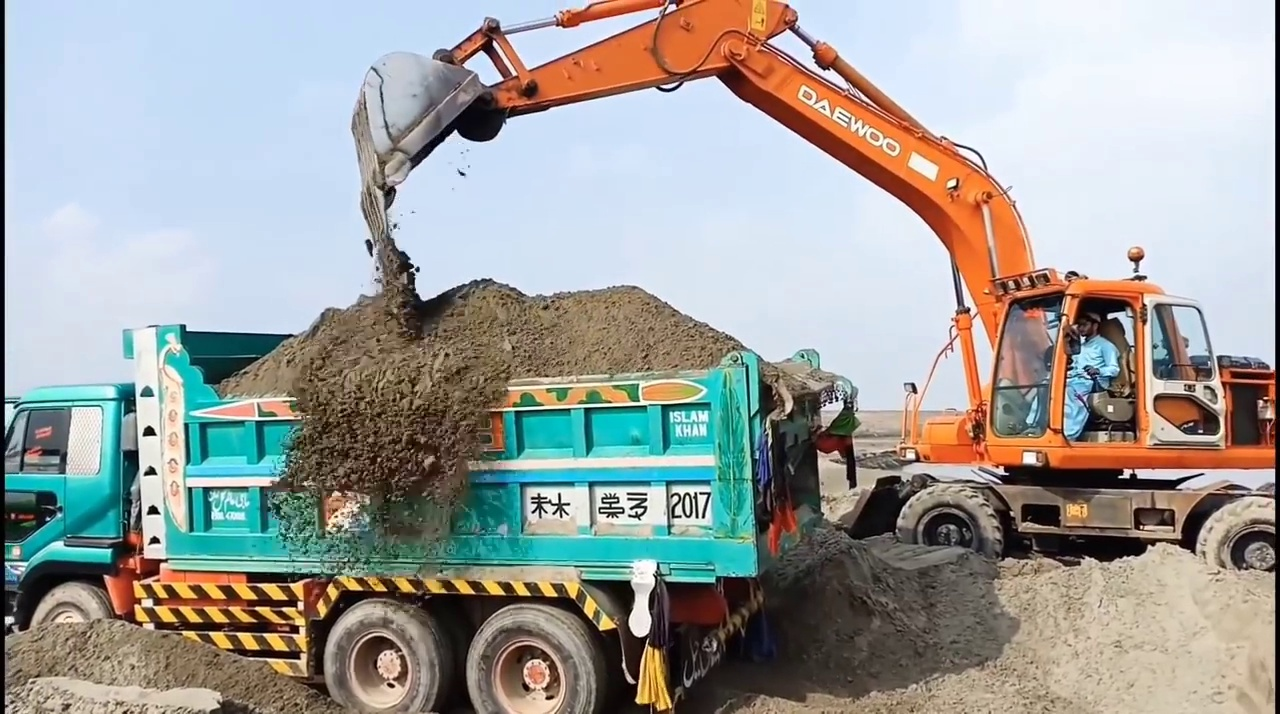excavator: (352, 7, 1280, 583)
person: (1046, 314, 1117, 436)
truck: (10, 319, 836, 714)
